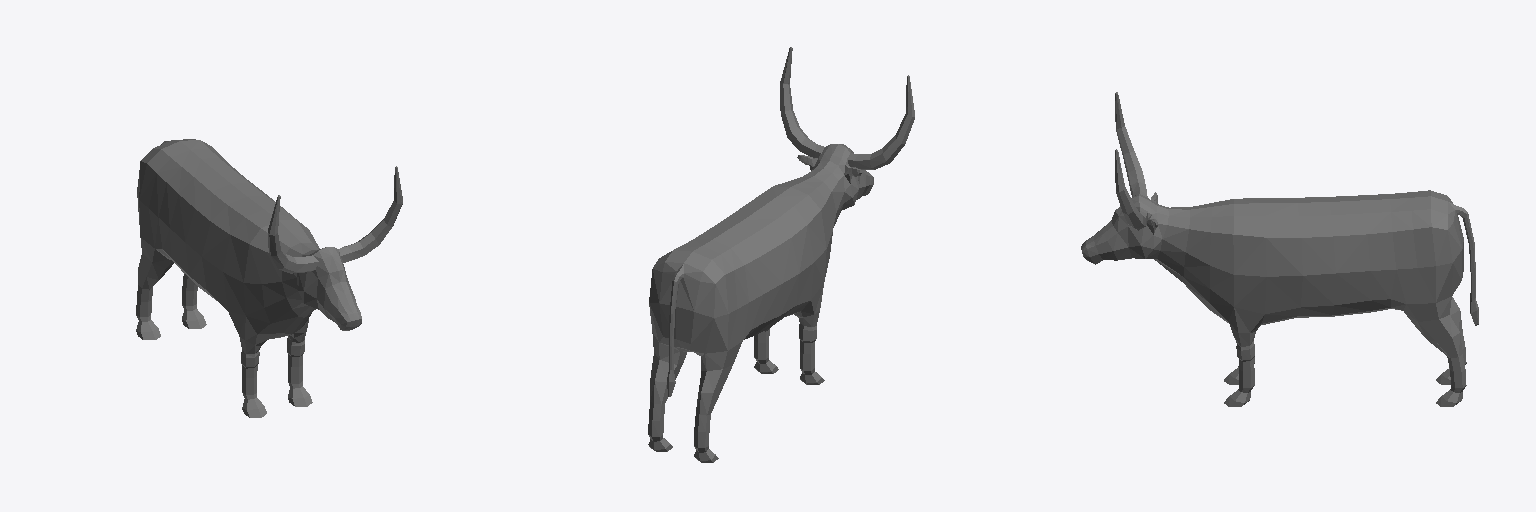
The model's file is Ankole.obj.
3 views of the same model, side by side, from view 1: azimuth 30°, elevation 25°; view 2: azimuth 150°, elevation 25°; view 3: azimuth 270°, elevation 25° (orthographic).
Parts seen in each view (by area): view 1: Ankole; view 2: Ankole; view 3: Ankole.
Part boxes in pixels (x1,y1,x2,y2): Ankole: (136, 139, 402, 417); Ankole: (648, 47, 914, 462); Ankole: (1081, 92, 1478, 406).
Bounding box in the file's own units: 0.5279 × 1.02 × 1.36.